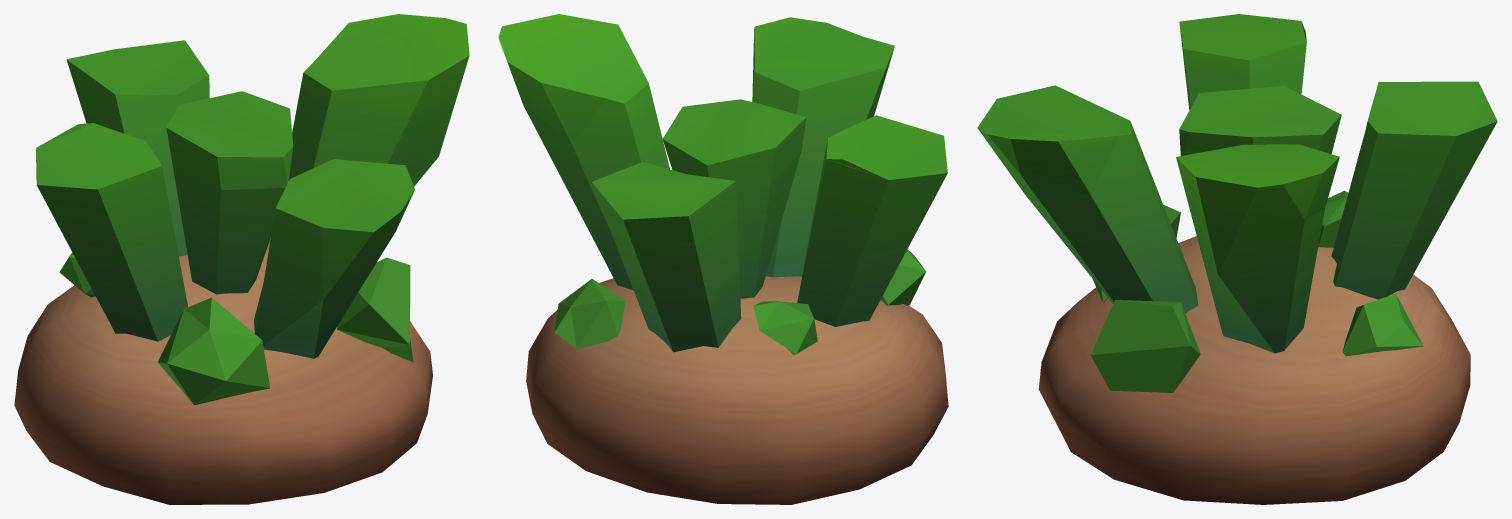
File: Crystals_F.fbx
The picture shows the model from 3 angles, left to right: view 1: azimuth 30°, elevation 25°; view 2: azimuth 150°, elevation 25°; view 3: azimuth 270°, elevation 25°; orthographic projection. The views are drawn at different scales.
Visible parts, largest first — view 1: Cylinder02, Cylinder01; view 2: Cylinder02, Cylinder01; view 3: Cylinder02, Cylinder01.
Part boxes in pixels (x1,y1,x2,y2): Cylinder02: [36, 14, 469, 358]; Cylinder01: [14, 237, 432, 504]; Cylinder02: [498, 14, 947, 352]; Cylinder01: [526, 249, 948, 504]; Cylinder02: [977, 14, 1497, 353]; Cylinder01: [1038, 190, 1470, 504].
Bounding box in the file's own units: 66.14 × 49.19 × 65.35.
